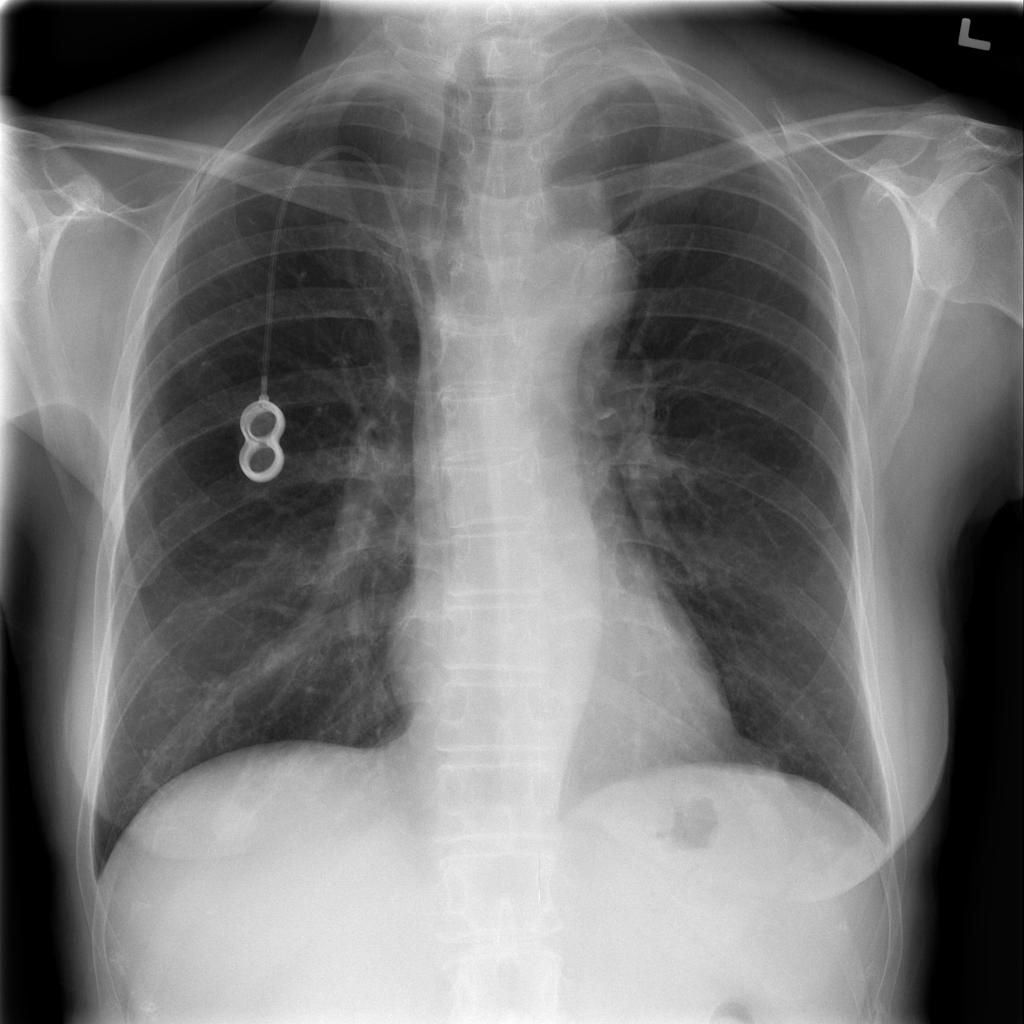nodule: (197, 786, 275, 859)
